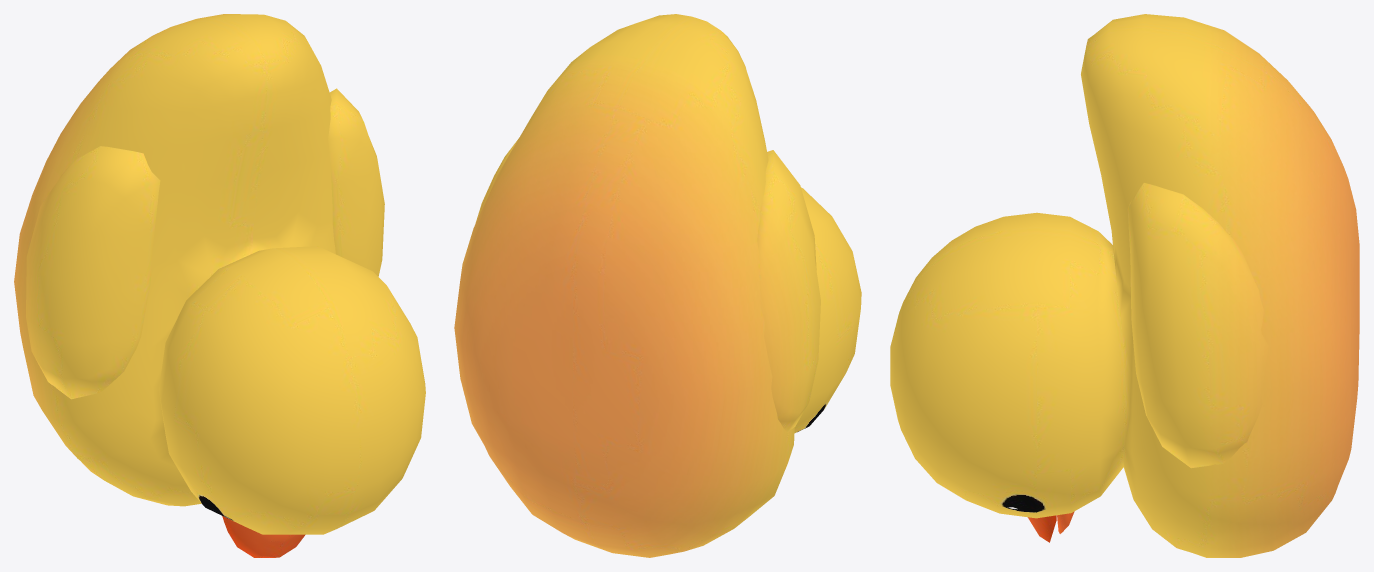
3 views of the same model, side by side, from view 1: azimuth 30°, elevation 25°; view 2: azimuth 150°, elevation 25°; view 3: azimuth 270°, elevation 25° (orthographic). The views are drawn at different scales.
Parts seen in each view (by area): view 1: shadeYellow.01, shadeRed.01; view 2: shadeYellow.01; view 3: shadeYellow.01.
Part boxes in pixels (<box>): shadeYellow.01: <box>14,14,425,534</box>; shadeRed.01: <box>222,516,305,557</box>; shadeYellow.01: <box>454,14,861,557</box>; shadeYellow.01: <box>890,14,1359,557</box>.
Size of the model in its own units: 0.2972 by 0.4224 by 0.3489.
Materials: 1 (1 with a texture image).
